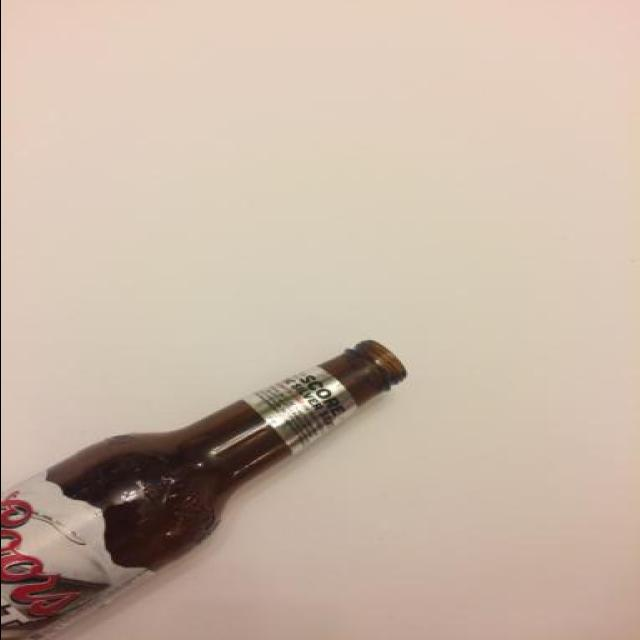glass: (0, 337, 410, 640)
